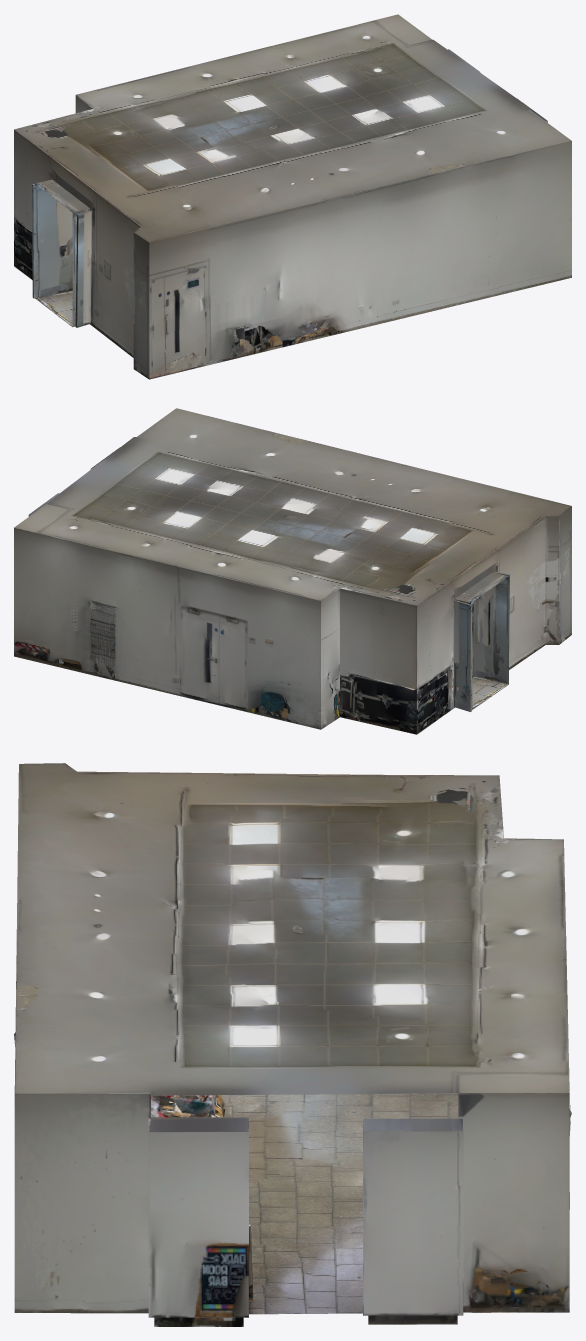
The model's file is main-back-left-LP.fbx.
The picture shows the model from 3 angles, top to bottom: view 1: azimuth 30°, elevation 25°; view 2: azimuth 150°, elevation 25°; view 3: azimuth 270°, elevation 25°; orthographic projection. The views are drawn at different scales.
Parts seen in each view (by area): view 1: main-back-left-LP; view 2: main-back-left-LP; view 3: main-back-left-LP.
Boxes of the visible parts, bbox=[...] form: main-back-left-LP: bbox=[14, 14, 571, 379]; main-back-left-LP: bbox=[14, 408, 571, 734]; main-back-left-LP: bbox=[14, 763, 571, 1326].
Bounding box in the file's own units: 1002 × 300 × 680.
1 material, 1 textured.
